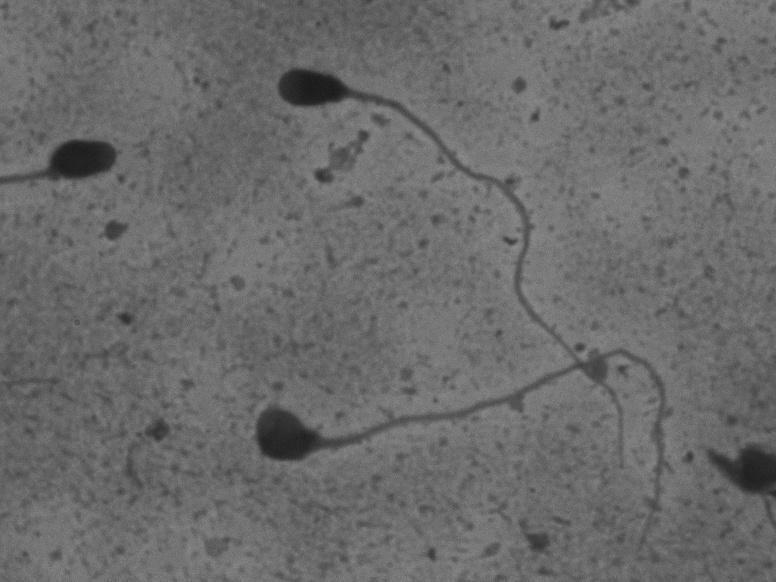Abnormal: (263, 60, 631, 476), (237, 331, 716, 542)
